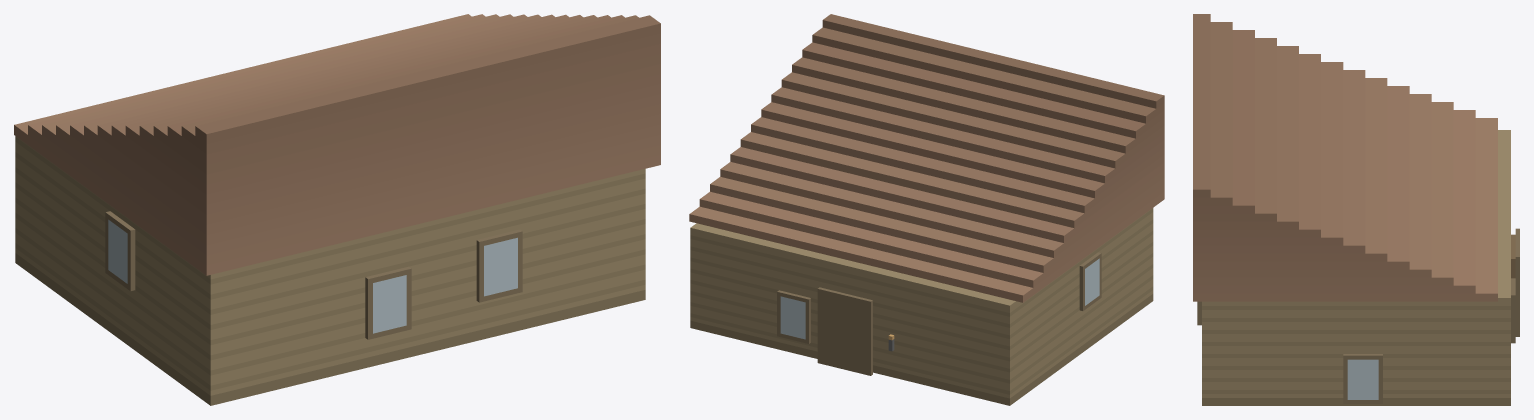
File: astillero_04.glb
3 renders of one model, left to right at view 1: azimuth 30°, elevation 25°; view 2: azimuth 150°, elevation 25°; view 3: azimuth 270°, elevation 25°, orthographic. The views are drawn at different scales.
Parts seen in each view (by area): view 1: astillero_04; view 2: astillero_04; view 3: astillero_04.
Boxes of the visible parts, x1,y1,x2,y2 form: astillero_04: (14, 14, 660, 405); astillero_04: (689, 14, 1164, 405); astillero_04: (1193, 14, 1519, 405).
Bounding box in the file's own units: 9.4 × 5.5 × 7.4.
